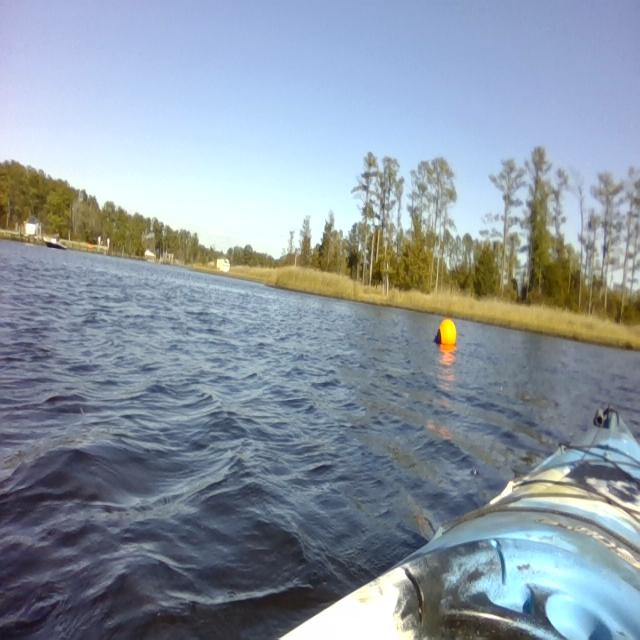Buoy: (431, 310, 460, 354)
